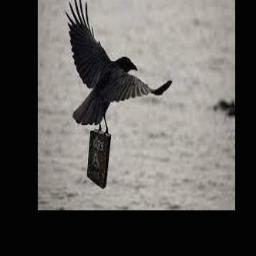Crow: (65, 0, 173, 133)
